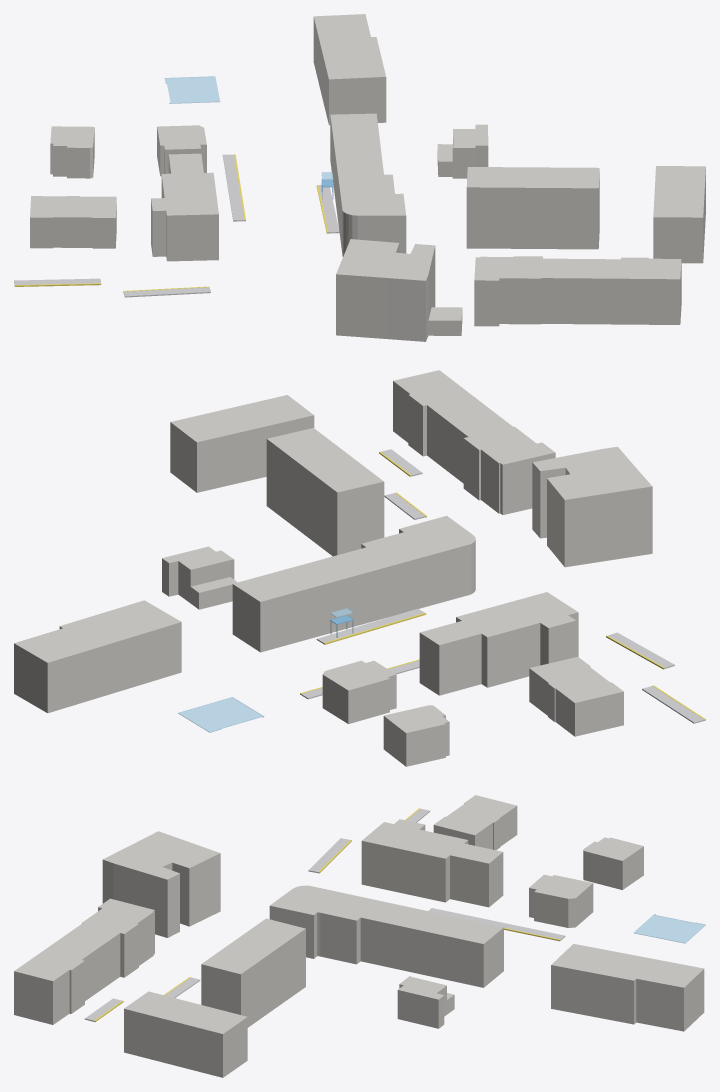
File: 8571412-liebefeld-hessstrasse.glb
3 views of the same model, one above another, from view 1: azimuth 30°, elevation 25°; view 2: azimuth 150°, elevation 25°; view 3: azimuth 270°, elevation 25° (orthographic). The views are drawn at different scales.
Parts seen in each view (by area): view 1: building_part@x, platform_body@0, roof@0, boarding_edge@0; view 2: building_part@x, platform_body@0, roof@0, boarding_edge@0; view 3: building_part@x, platform_body@0, roof@0.
Boxes of the visible parts, x1,y1,x2,y2 form: building_part@x: [30, 14, 705, 341]; platform_body@0: [14, 154, 339, 297]; roof@0: [164, 76, 333, 180]; boarding_edge@0: [14, 154, 328, 291]; building_part@x: [14, 370, 652, 766]; platform_body@0: [301, 449, 705, 723]; roof@0: [178, 608, 353, 732]; boarding_edge@0: [300, 451, 705, 720]; building_part@x: [14, 795, 704, 1077]; platform_body@0: [84, 808, 565, 1021]; roof@0: [633, 914, 705, 943].
Bounding box in the file's own units: 141 × 15.45 × 150.
